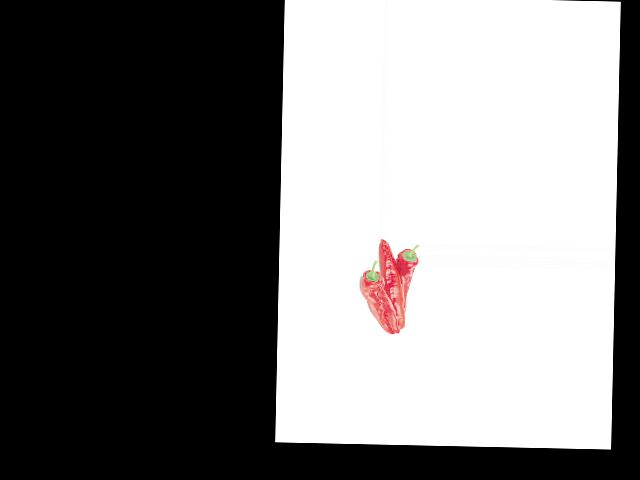bell_pepper: (356, 257, 392, 335)
